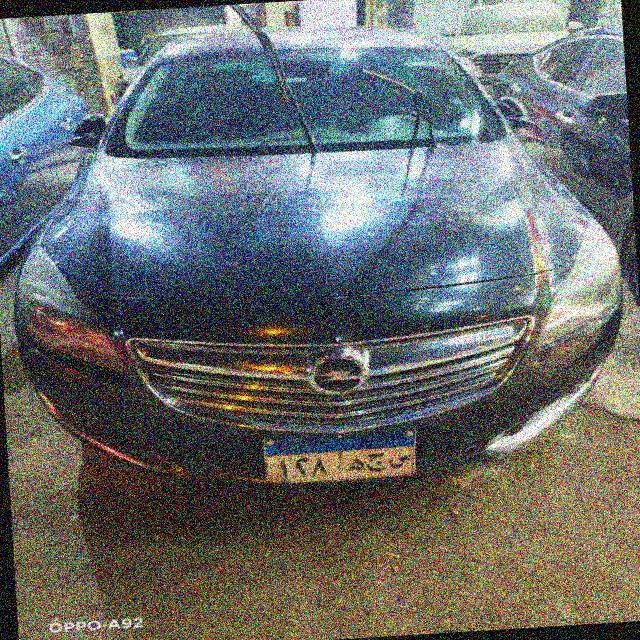License Plate: (263, 427, 419, 486)
